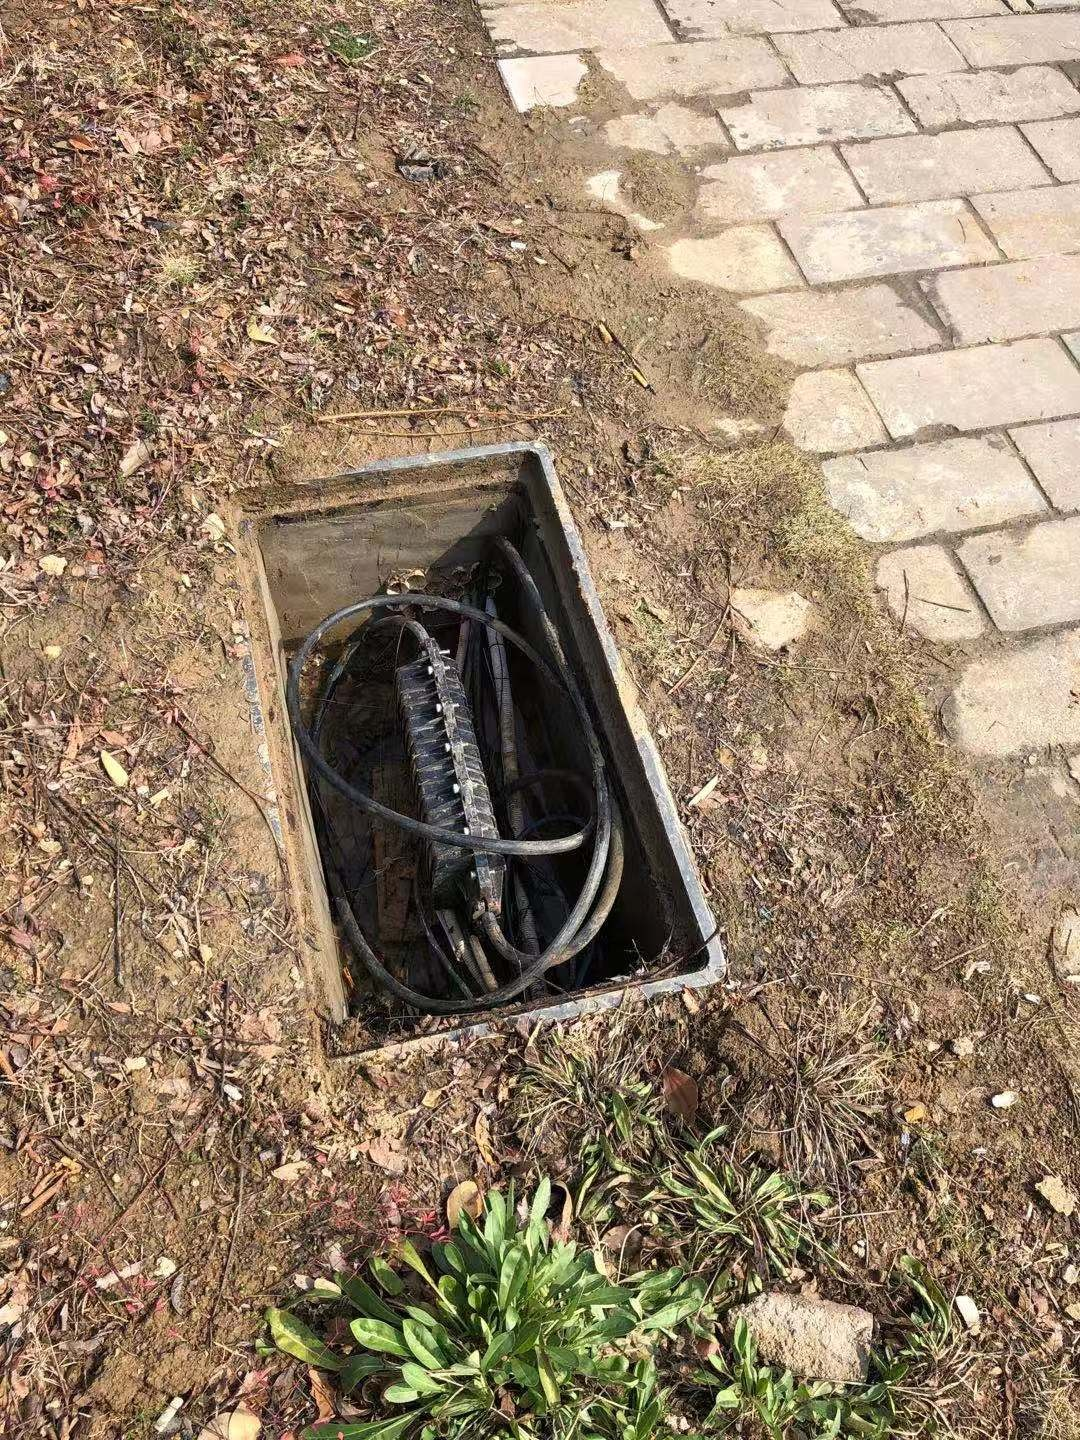well: (221, 433, 727, 1060)
